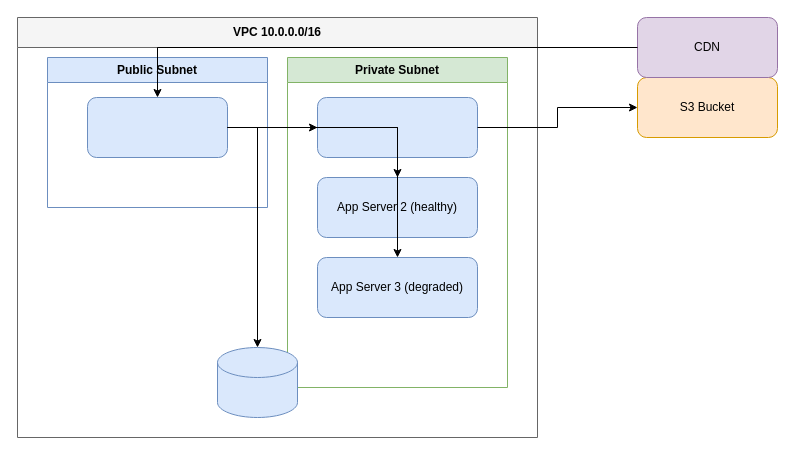
This 795x455 diagram has some shape labels left out. Each missing label, with the centre of its shape:
"App Server 1" belongs at [397,127].
"Load Balancer" belongs at [157,127].
"RDS Database" belongs at [257,382].
